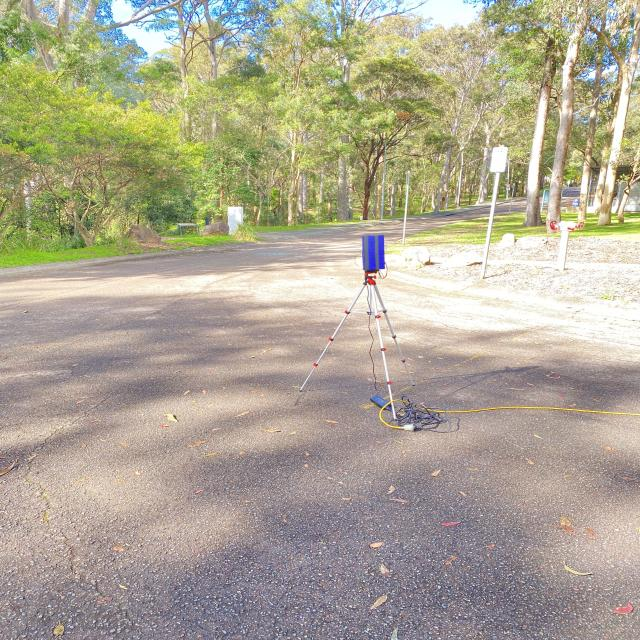matrix: (356, 233, 394, 273)
